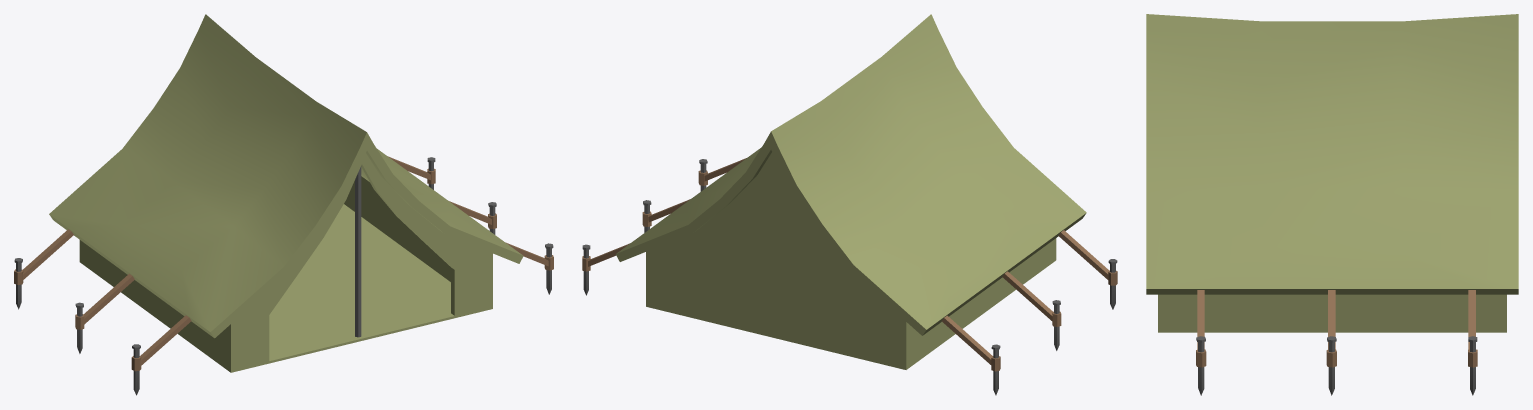
The model's file is Namiot.fbx.
The picture shows the model from 3 angles, left to right: view 1: azimuth 30°, elevation 25°; view 2: azimuth 150°, elevation 25°; view 3: azimuth 270°, elevation 25°; orthographic projection. The views are drawn at different scales.
Visible parts, largest first — view 1: Namiot; view 2: Namiot; view 3: Namiot.
Boxes of the visible parts, x1,y1,x2,y2 form: Namiot: (14, 14, 553, 395); Namiot: (582, 14, 1117, 395); Namiot: (1146, 14, 1518, 395).
Bounding box in the file's own units: 321 × 168 × 213.
